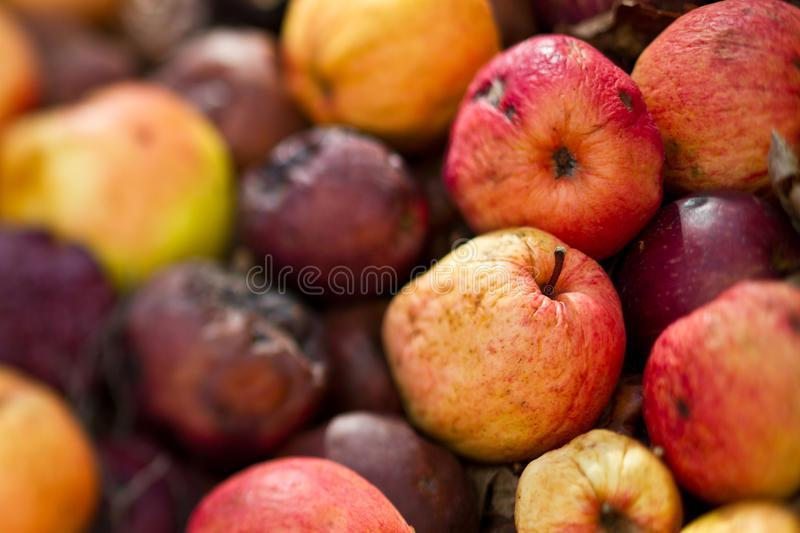apple: (380, 223, 631, 465), (441, 33, 667, 259)
